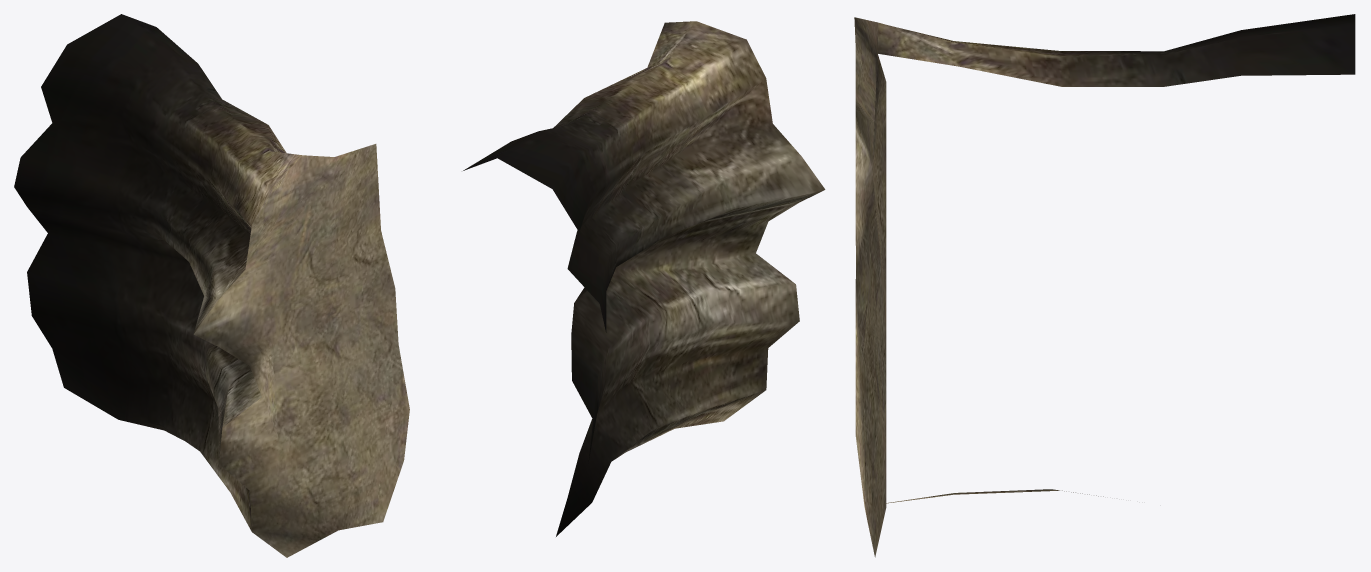
3 renders of one model, left to right at view 1: azimuth 30°, elevation 25°; view 2: azimuth 150°, elevation 25°; view 3: azimuth 270°, elevation 25°, orthographic. The views are drawn at different scales.
Parts seen in each view (by area): view 1: model_Object34; view 2: model_Object34; view 3: model_Object34.
Part boxes in pixels (box(x1,y1,x2,y2)): model_Object34: box(14, 14, 409, 557); model_Object34: box(463, 21, 825, 536); model_Object34: box(854, 14, 1355, 557).
Bounding box in the file's own units: 2.53 × 4.18 × 3.81.
2 materials, 2 textured.
